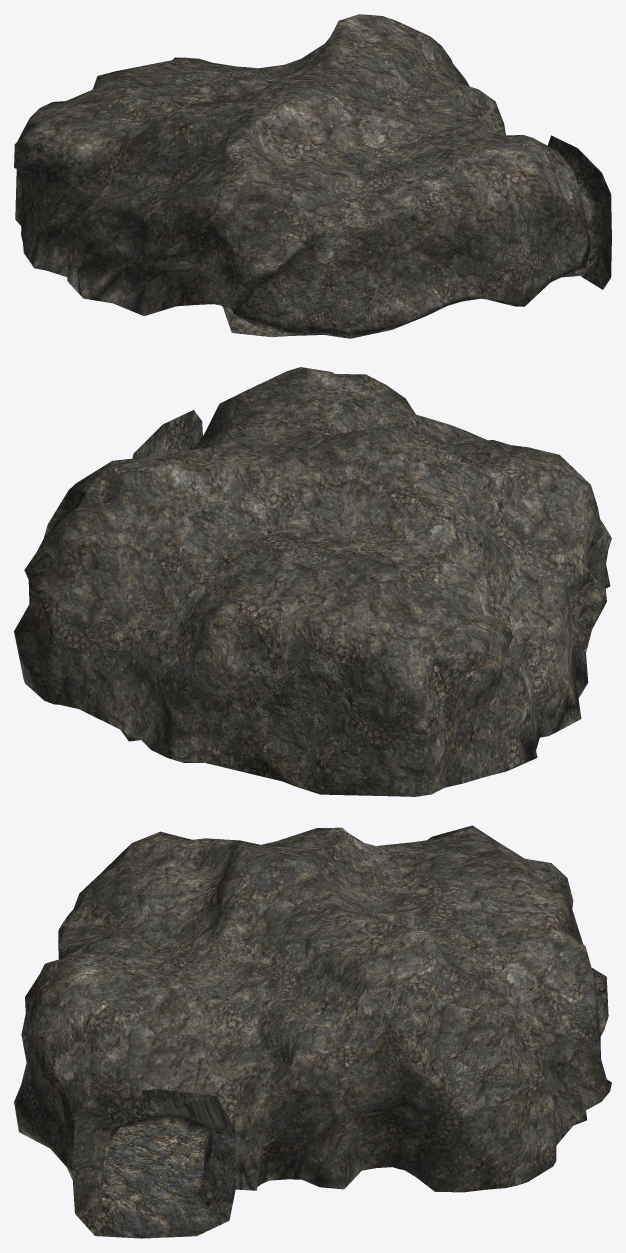
Rendered from Cave7.fbx.
3 renders of one model, top to bottom at view 1: azimuth 30°, elevation 25°; view 2: azimuth 150°, elevation 25°; view 3: azimuth 270°, elevation 25°, orthographic. The views are drawn at different scales.
Parts seen in each view (by area): view 1: Cave7; view 2: Cave7; view 3: Cave7.
Part boxes in pixels (x1,y1,x2,y2): Cave7: (14,14,611,338); Cave7: (14,367,611,796); Cave7: (14,825,611,1238).
Bounding box in the file's own units: 284 × 130 × 287.
